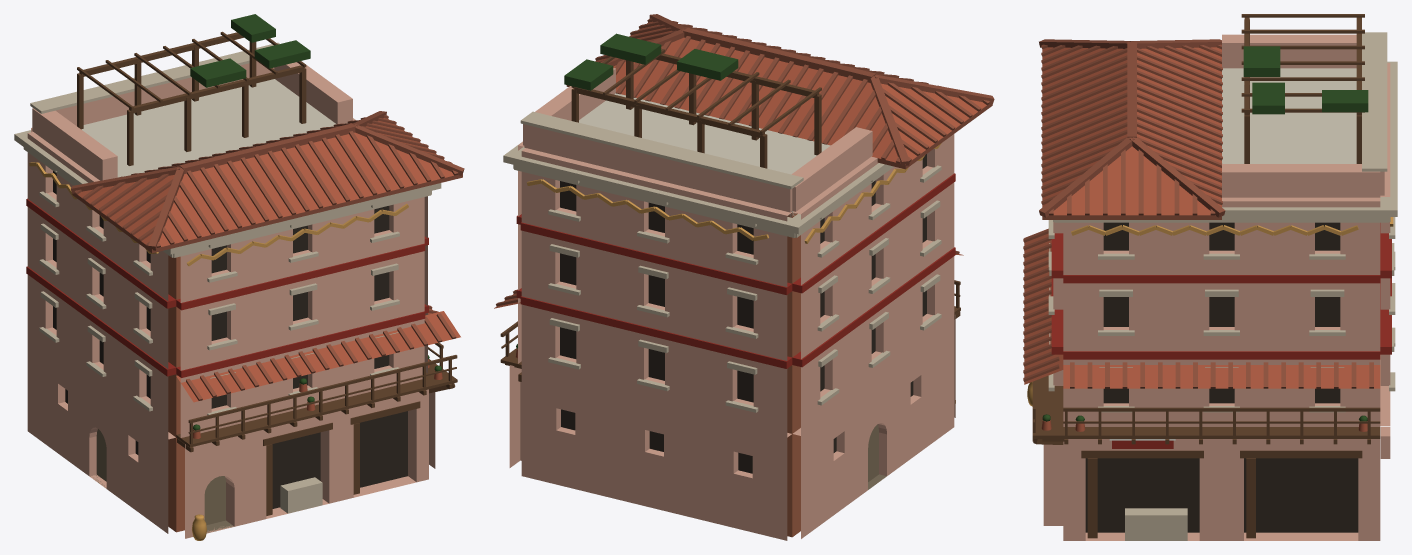
File: rome_insula_b.glb
3 renders of one model, left to right at view 1: azimuth 30°, elevation 25°; view 2: azimuth 150°, elevation 25°; view 3: azimuth 270°, elevation 25°, orthographic. The views are drawn at different scales.
Visible parts, largest first — view 1: rome_insula_b; view 2: rome_insula_b; view 3: rome_insula_b.
Part boxes in pixels (left/top/right/bottom): rome_insula_b: left=14, top=14, right=464, bottom=540; rome_insula_b: left=494, top=14, right=994, bottom=540; rome_insula_b: left=1023, top=14, right=1397, bottom=540.
Bounding box in the file's own units: 14.66 × 16.25 × 13.36.
